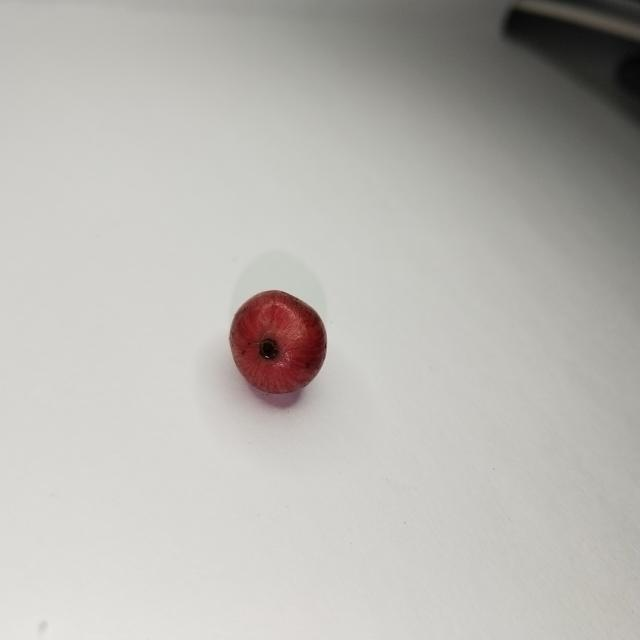Infectado: (231, 292, 328, 395)
